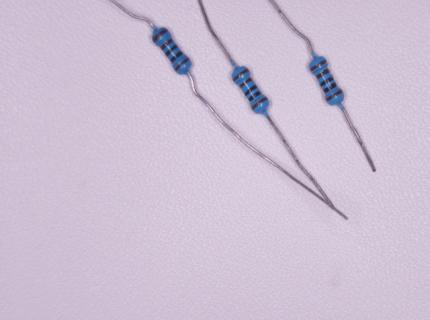Brown band: (160, 38, 173, 51), (239, 77, 253, 89), (316, 68, 330, 79)
